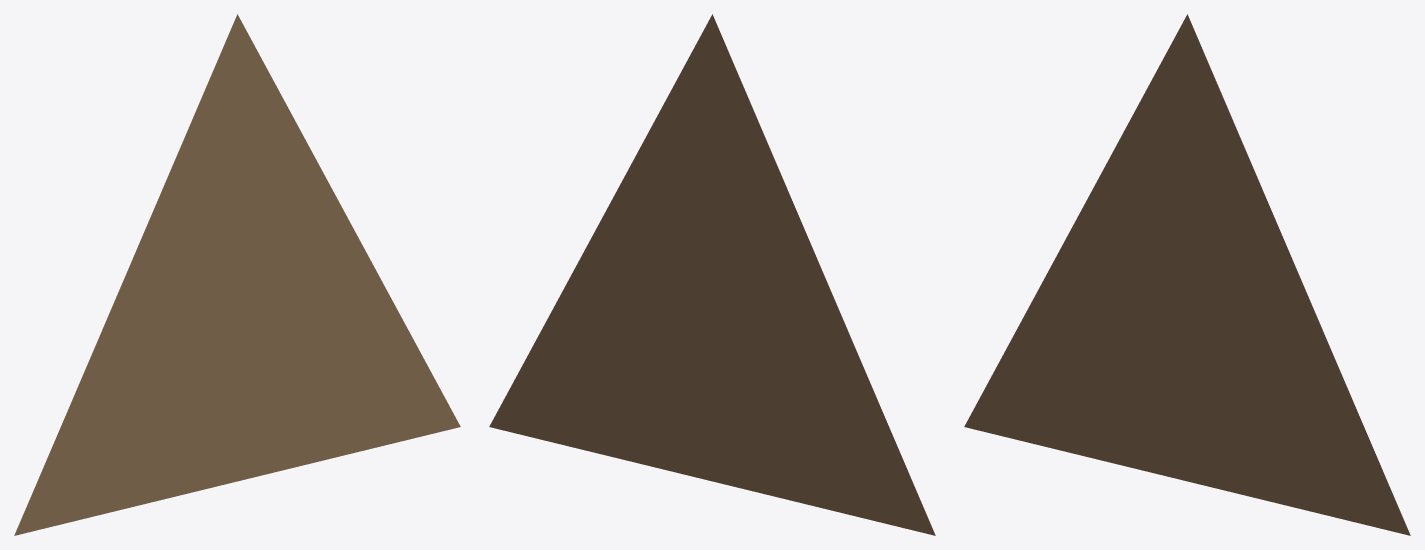
The model's file is Fake_Boulder_xqzvbnd_High_LOD1.fbx.
3 renders of one model, left to right at view 1: azimuth 30°, elevation 25°; view 2: azimuth 150°, elevation 25°; view 3: azimuth 330°, elevation 25°, orthographic.
Visible parts, largest first — view 1: Fake_Boulder_xqzvbnd_LOD1; view 2: Fake_Boulder_xqzvbnd_LOD1; view 3: Fake_Boulder_xqzvbnd_LOD1.
Boxes of the visible parts, <box> form: Fake_Boulder_xqzvbnd_LOD1: <box>14,14,460,535</box>; Fake_Boulder_xqzvbnd_LOD1: <box>489,14,935,535</box>; Fake_Boulder_xqzvbnd_LOD1: <box>964,14,1410,535</box>.
Size of the model in its own units: 100 by 100 by 0.
Materials: 1 (1 with a texture image).
